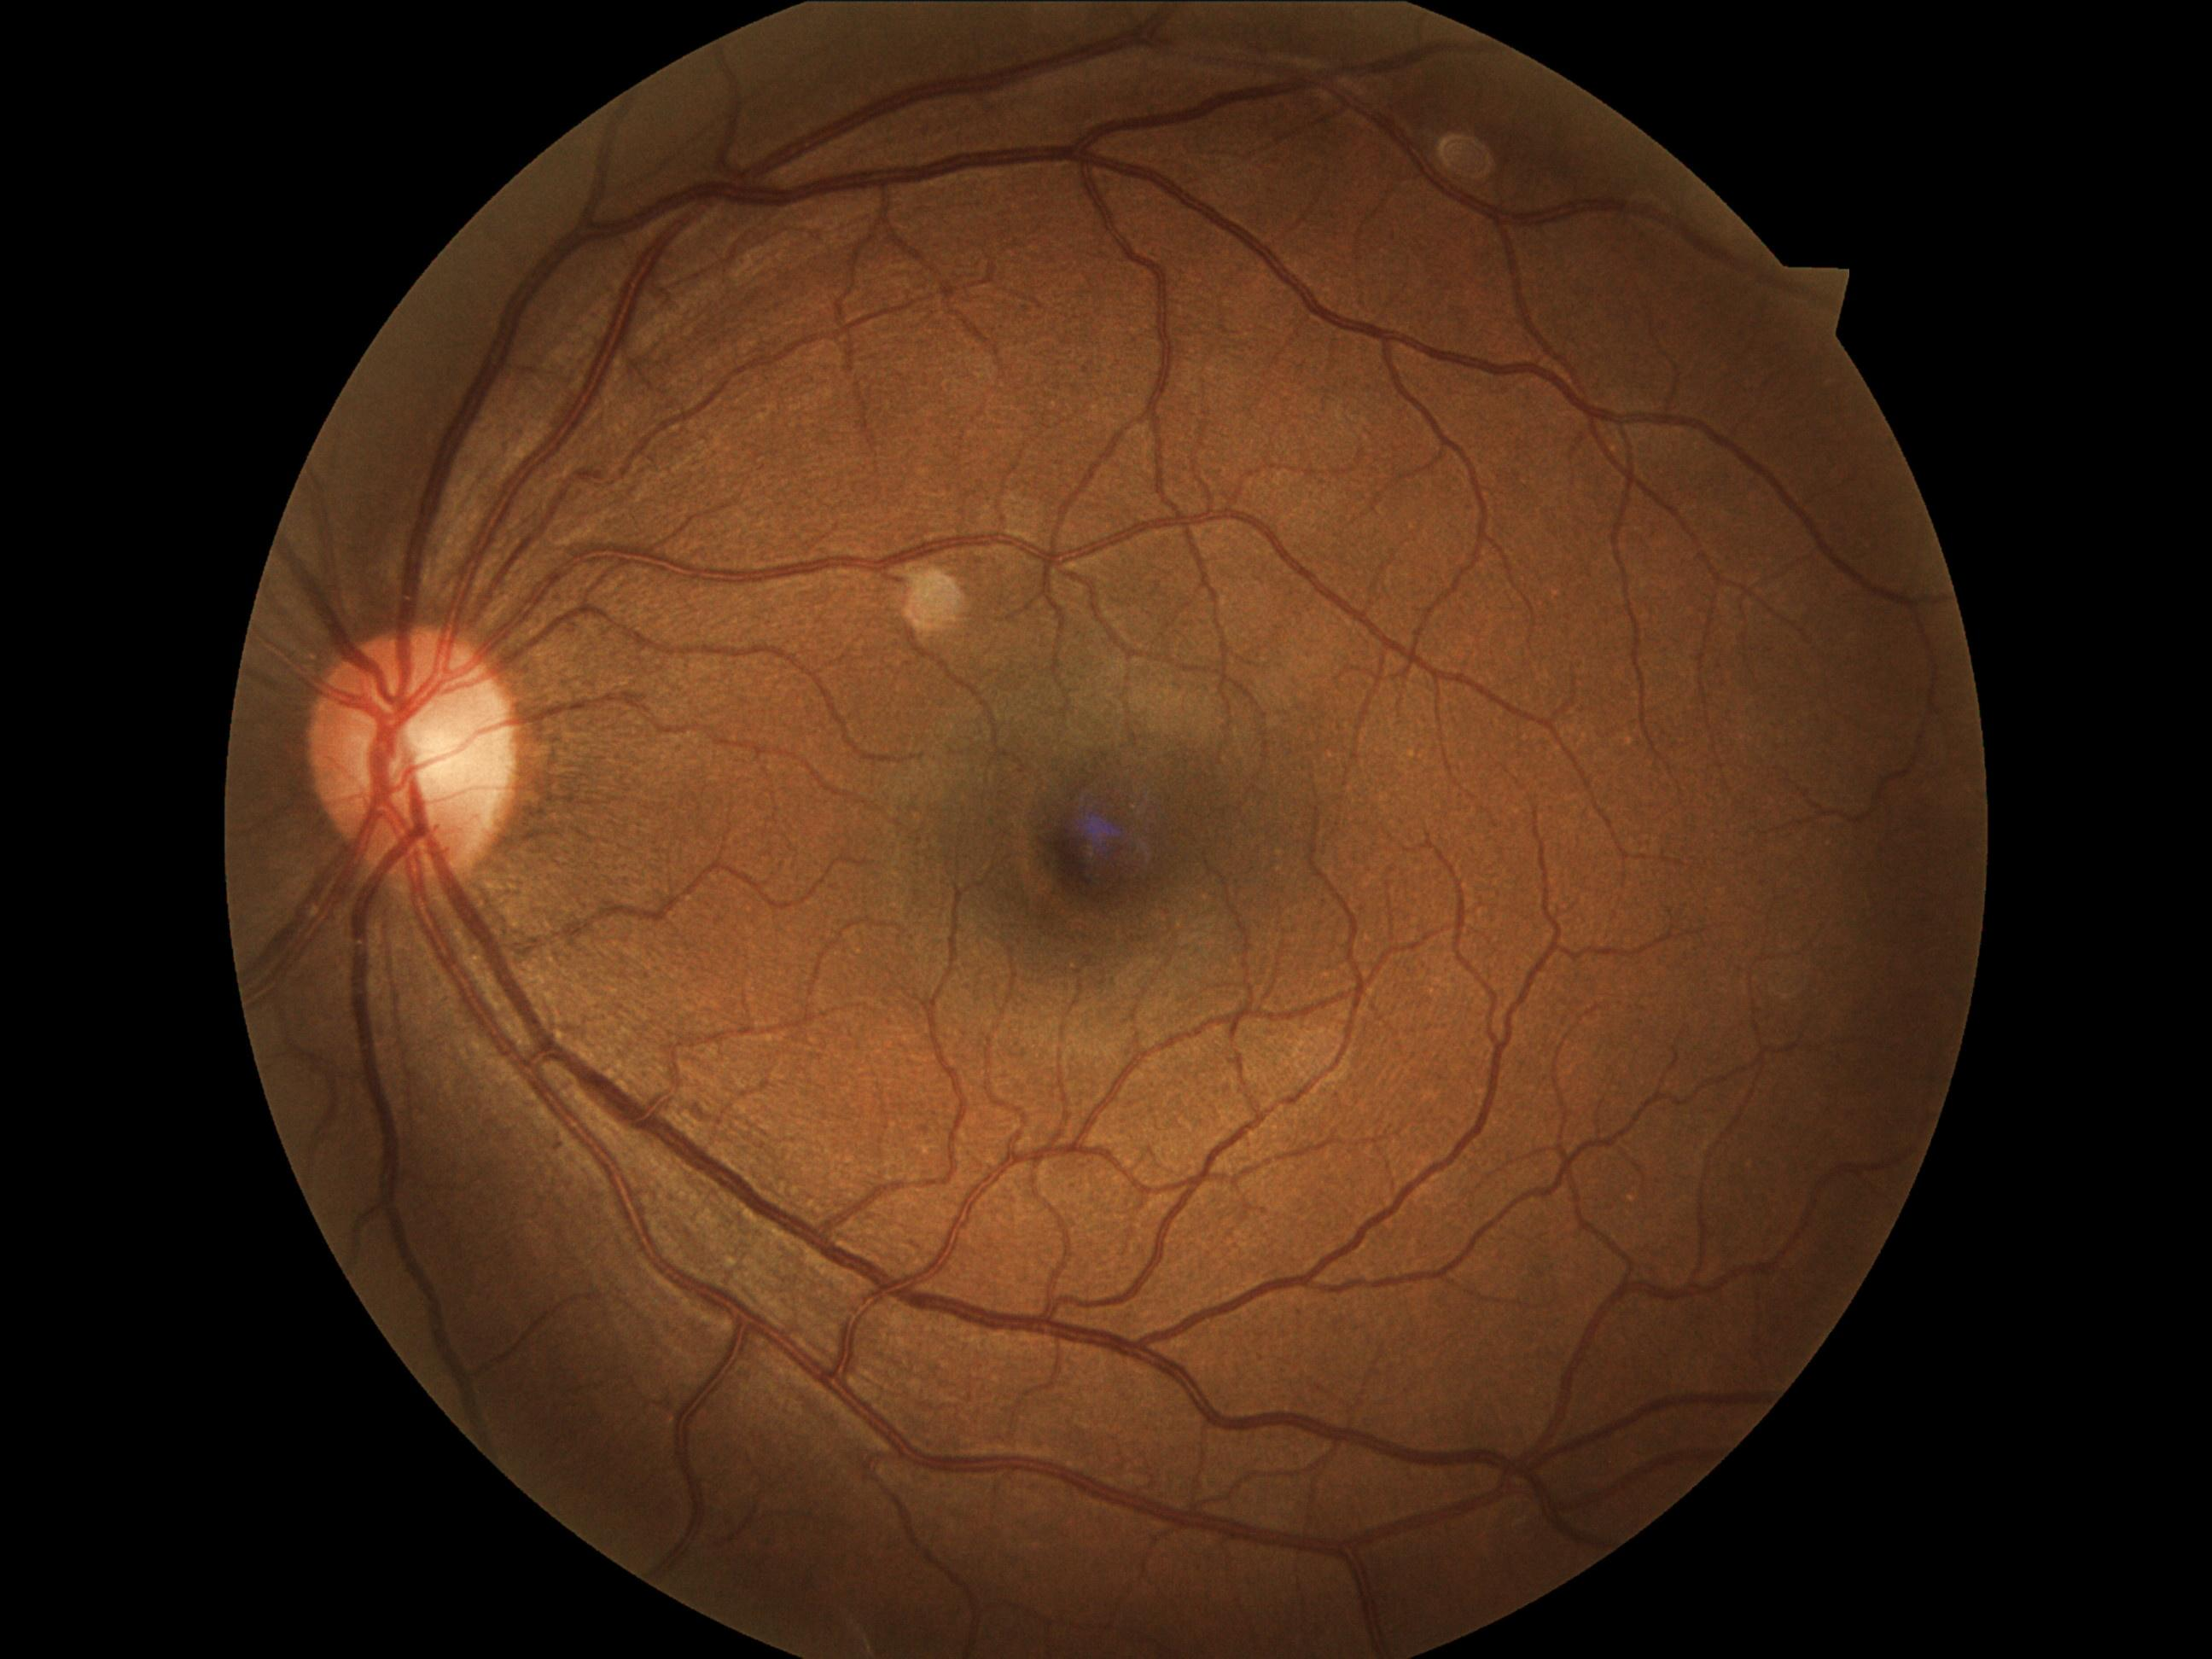Optic-nerve: (279, 612, 538, 918)
macula: (921, 669, 1298, 1016)
notch: (1737, 251, 1888, 350)
